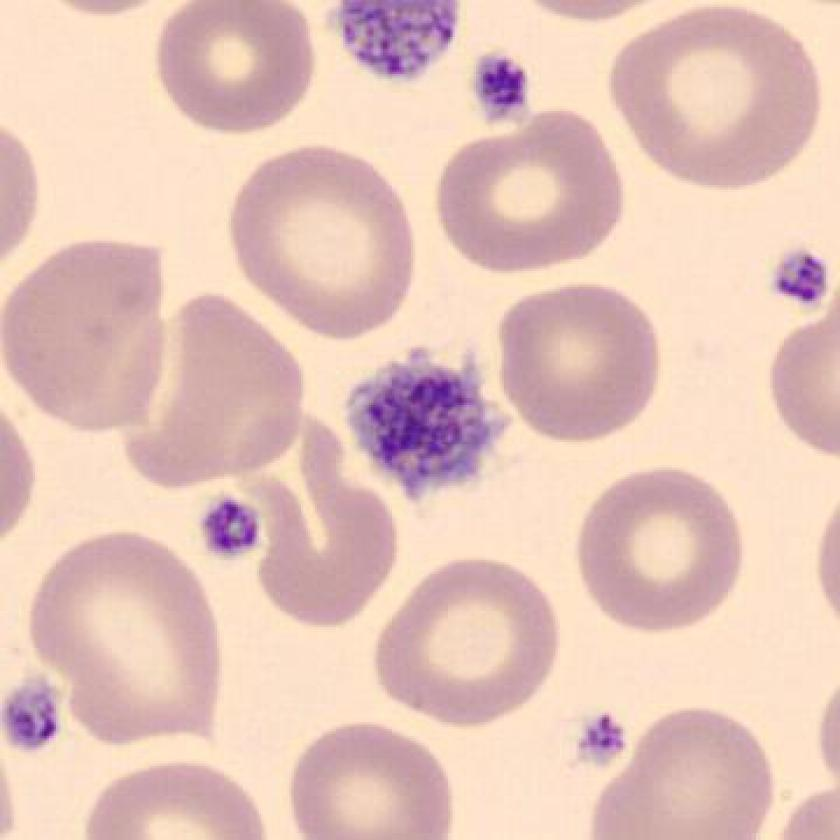platelets: (335, 332, 528, 508), (181, 478, 281, 580), (1, 665, 83, 772), (461, 38, 547, 131), (754, 232, 840, 324), (561, 698, 640, 786)
